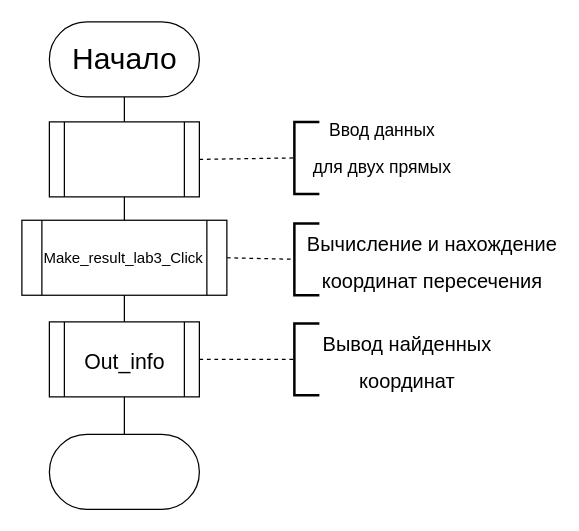
This 579x531 diagram has some shape labels left out. Here are the shapes that lost their labels. From the top down, the centre of each, then its label:
At [123,159]: "Input_user".
At [123,471]: "Конец".
